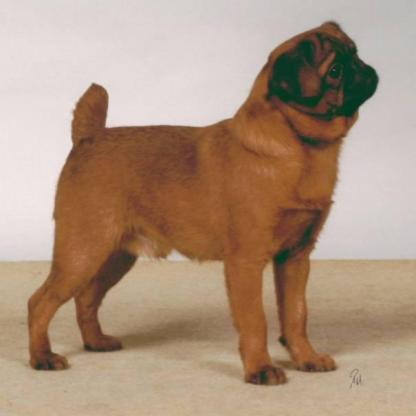Brabancon_griffon: (25, 19, 378, 386)
